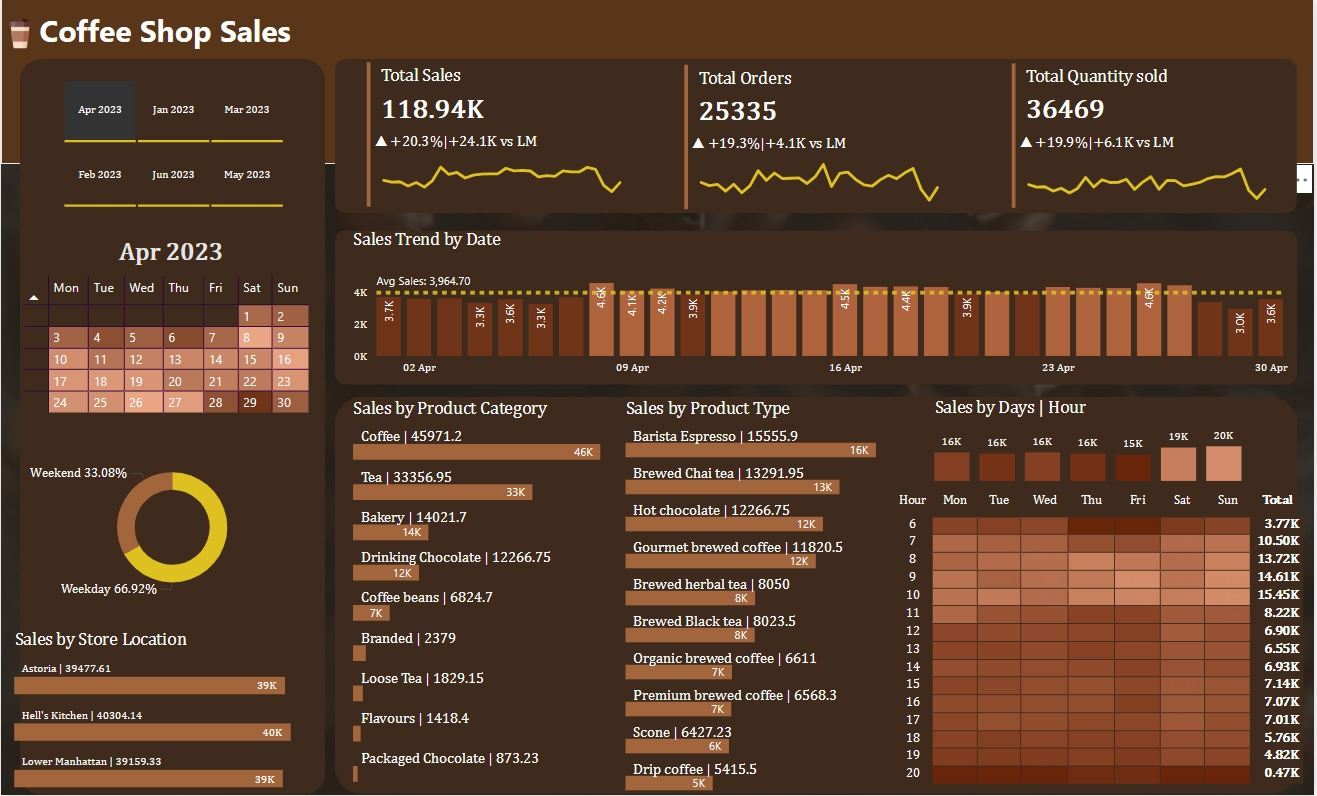

Layout of this report page (visuals, bound fields, positions):
{"tool":"powerbi","page":{"name":"Page 1","canvas":[1400,850],"ordinal":0},"visuals":[{"type":"shape","box":[0,0,1400.3,175.6],"z":0},{"type":"shape","box":[19.5,64.5,325.7,785],"z":1000},{"type":"shape","box":[356.6,64.5,1026.3,164.5],"z":2000},{"type":"textbox","box":[35.5,6.6,296.1,57.9],"z":3000},{"type":"slicer","fields":{"Values":["Date_Table.Month Year"]},"box":[40.9,80.4,283.4,149],"z":4000},{"type":"cardVisual","fields":{"Data":["coffee_sales coffee_data.Total Sales"]},"box":[384.9,63.3,290.8,164.5],"z":5000,"group":"g3"},{"type":"cardVisual","fields":{"Data":["coffee_sales coffee_data.Total Quantity sold"]},"box":[1073.1,64.6,290.8,164.5],"z":5000,"group":"g2"},{"type":"group","id":"g1","title":"Group 1","box":[723.7,65.9,291.3,164.8],"z":5000},{"type":"cardVisual","fields":{"Data":["coffee_sales coffee_data.Total Orders"]},"box":[723.7,65.9,290.8,164.5],"z":5000,"group":"g1"},{"type":"group","id":"g2","title":"Group 1","box":[1073.1,64.6,291.3,164.8],"z":6000},{"type":"lineChart","fields":{"Category":["Date_Table.Date.Variation.Date Hierarchy.Year","Date_Table.Date.Variation.Date Hierarchy.Quarter","Date_Table.Date.Variation.Date Hierarchy.Month","Date_Table.Date.Variation.Date Hierarchy.Day"],"Y":["coffee_sales coffee_data.Total Sales"]},"box":[393.5,143.8,282.1,84.4],"z":6000,"group":"g3"},{"type":"lineChart","fields":{"Category":["Date_Table.Date.Variation.Date Hierarchy.Year","Date_Table.Date.Variation.Date Hierarchy.Quarter","Date_Table.Date.Variation.Date Hierarchy.Month","Date_Table.Date.Variation.Date Hierarchy.Day"],"Y":["coffee_sales coffee_data.Total Quantity sold"]},"box":[1081.7,145.1,282.1,84.4],"z":6000,"group":"g2"},{"type":"lineChart","fields":{"Category":["Date_Table.Date.Variation.Date Hierarchy.Year","Date_Table.Date.Variation.Date Hierarchy.Quarter","Date_Table.Date.Variation.Date Hierarchy.Month","Date_Table.Date.Variation.Date Hierarchy.Day"],"Y":["coffee_sales coffee_data.Total Orders"]},"box":[732.3,146.4,282.1,84.4],"z":6000,"group":"g1"},{"type":"pivotTable","fields":{"Rows":["Date_Table.Week Number"],"Columns":["Date_Table.Day Name"],"Values":["Min(Date_Table.Day Number)"]},"box":[19.8,291.3,325.6,191.1],"z":7000},{"type":"card","fields":{"Values":["Min(Date_Table.Month Year)"]},"box":[117.3,246.5,127.9,44.8],"z":8000},{"type":"donutChart","fields":{"Category":["Date_Table.Weekday/Weekend"],"Y":["coffee_sales coffee_data.Total Sales"]},"box":[19.8,482.5,325.6,162.1],"z":9000},{"type":"group","id":"g3","title":"Group 1","box":[384.9,63.3,291.3,164.8],"z":10000},{"type":"clusteredBarChart","title":"Sales by Store Location","fields":{"Category":["coffee_sales coffee_data.store_location"],"Y":["coffee_sales coffee_data.Placeholder","coffee_sales coffee_data.Total Sales"]},"box":[9.2,673.6,336.2,175.3],"z":11000},{"type":"shape","box":[355.9,246.5,1026.9,164.8],"z":12000},{"type":"shape","box":[355.9,424.5,1026.9,424.5],"z":13000},{"type":"clusteredBarChart","title":"Sales by Product Category","fields":{"Category":["coffee_sales coffee_data.product_category"],"Y":["coffee_sales coffee_data.Placeholder","Sum(coffee_sales coffee_data.Sales)"]},"box":[370.7,426.2,306.2,414.2],"z":14000},{"type":"clusteredBarChart","title":"Sales by Product Type","fields":{"Category":["coffee_sales coffee_data.product_type"],"Y":["coffee_sales coffee_data.Placeholder","coffee_sales coffee_data.Total Sales"]},"box":[661.9,426.2,309.2,423.2],"z":15000},{"type":"columnChart","title":"Sales Trend by Date","fields":{"Category":["coffee_sales coffee_data.transaction_date"],"Y":["coffee_sales coffee_data.Total Sales"]},"box":[371.2,246.6,1011,160.3],"z":16000},{"type":"pivotTable","fields":{"Values":["coffee_sales coffee_data.Total Sales"],"Rows":["coffee_sales coffee_data.Hour"],"Columns":["Date_Table.Day Name"]},"box":[946.5,522,453.5,328.2],"z":17000},{"type":"columnChart","title":"Sales by Days | Hour","fields":{"Y":["coffee_sales coffee_data.Total Sales"],"Category":["Date_Table.Day Name"]},"box":[991.3,425.8,338.8,94.9],"z":17001},{"type":"image","box":[0,13.3,41.3,46.7],"z":17002}]}

Visuals, with their boxes in screenshot pixels (x1, y1, x2, y2), scaled from the page's 1400x850 canvas onto the 1317x796 screenshot:
shape: 0,0,1316,164
shape: 18,60,325,795
shape: 335,60,1301,214
textbox: 33,6,312,60
slicer - Date_Table.Month Year: 38,75,305,215
cardVisual - coffee_sales coffee_data.Total Sales: 362,59,636,213
cardVisual - coffee_sales coffee_data.Total Quantity sold: 1009,60,1283,215
"Group 1" group: 681,62,955,216
cardVisual - coffee_sales coffee_data.Total Orders: 681,62,954,216
"Group 1" group: 1009,60,1284,215
lineChart - Date_Table.Date.Variation.Date Hierarchy.Year x Date_Table.Date.Variation.Date Hierarchy.Quarter: 370,135,636,214
lineChart - Date_Table.Date.Variation.Date Hierarchy.Year x Date_Table.Date.Variation.Date Hierarchy.Quarter: 1018,136,1283,215
lineChart - Date_Table.Date.Variation.Date Hierarchy.Year x Date_Table.Date.Variation.Date Hierarchy.Quarter: 689,137,954,216
pivotTable - Date_Table.Week Number x Date_Table.Day Name: 19,273,325,452
card - Min(Date_Table.Month Year): 110,231,231,273
donutChart - Date_Table.Weekday/Weekend x coffee_sales coffee_data.Total Sales: 19,452,325,604
"Group 1" group: 362,59,636,214
"Sales by Store Location" clusteredBarChart: 9,631,325,795
shape: 335,231,1301,385
shape: 335,398,1301,795
"Sales by Product Category" clusteredBarChart: 349,399,637,787
"Sales by Product Type" clusteredBarChart: 623,399,914,795
"Sales Trend by Date" columnChart: 349,231,1300,381
pivotTable - coffee_sales coffee_data.Total Sales x coffee_sales coffee_data.Hour: 890,489,1316,795
"Sales by Days | Hour" columnChart: 933,399,1251,488
image: 0,12,39,56
